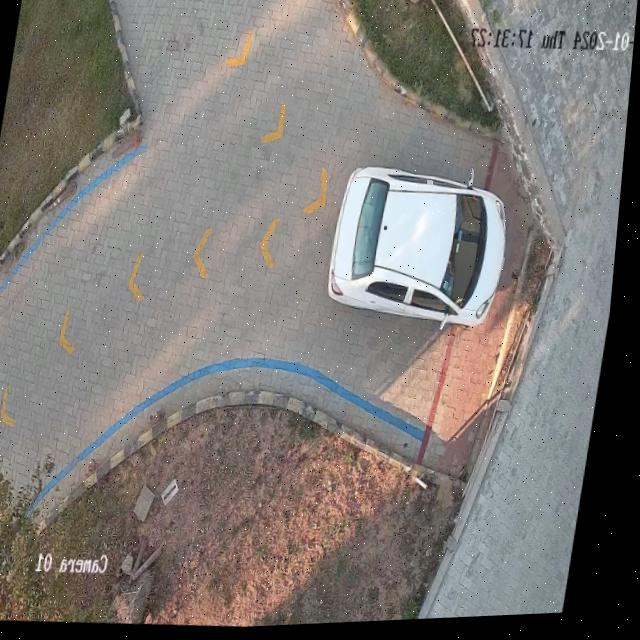car: (332, 170, 510, 332)
